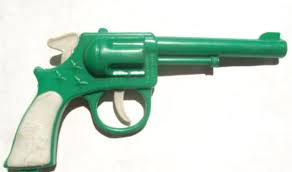Arma Falsa: (5, 25, 290, 172)
